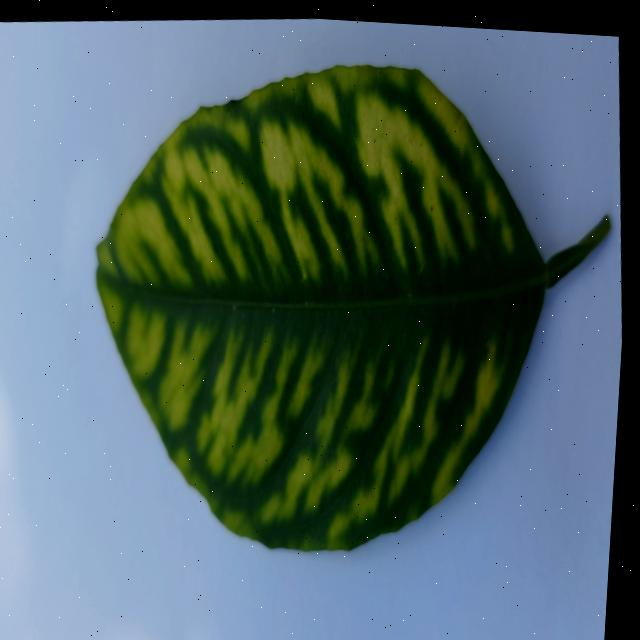greening: (97, 66, 608, 549)
